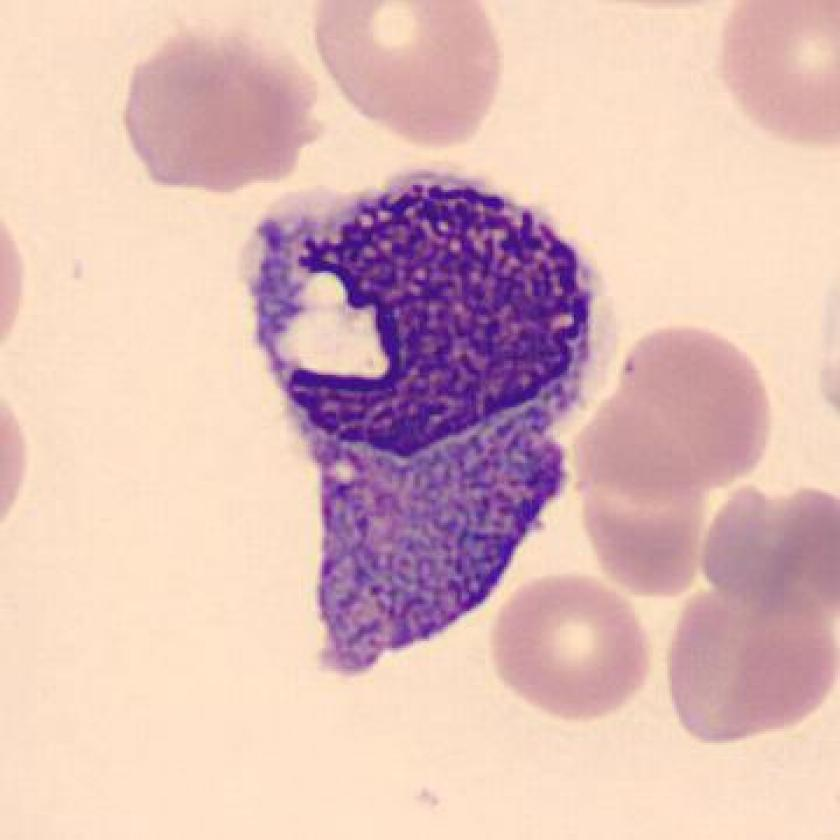monocyte: (214, 154, 627, 691)
